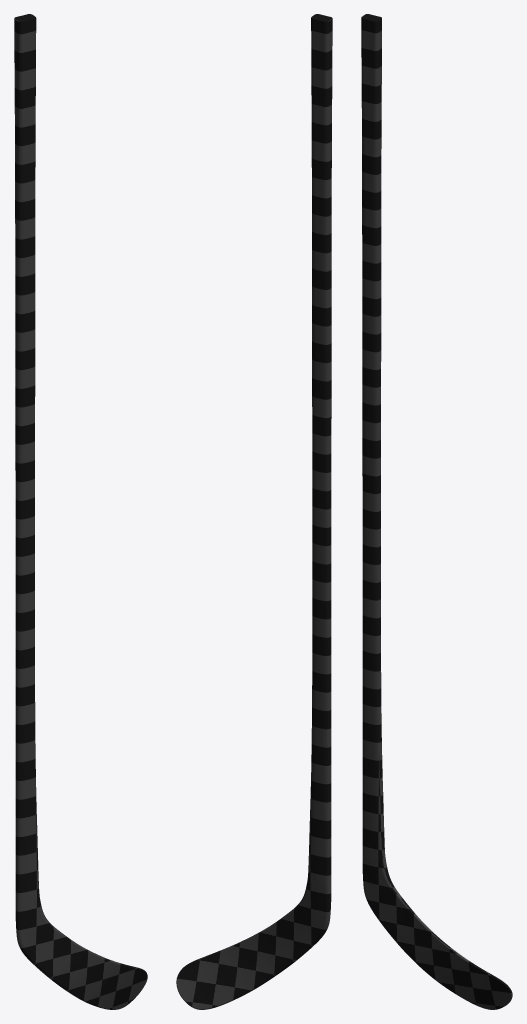
File: P69-SBO.glb
3 views of the same model, side by side, from view 1: azimuth 30°, elevation 25°; view 2: azimuth 150°, elevation 25°; view 3: azimuth 330°, elevation 25° (orthographic). The views are drawn at different scales.
Visible parts, largest first — view 1: geometry_0; view 2: geometry_0; view 3: geometry_0.
Boxes of the visible parts, <box> form: geometry_0: <box>14,14,147,1009</box>; geometry_0: <box>176,14,332,1009</box>; geometry_0: <box>361,14,512,1009</box>.
Bounding box in the file's own units: 242 × 1650 × 56.41.
Materials: 1 (1 with a texture image).
